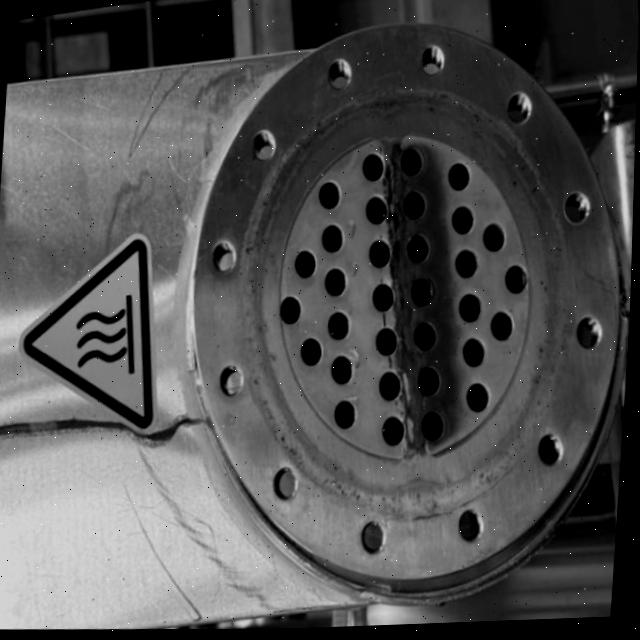Hole: (375, 409, 409, 449), (372, 363, 404, 403), (367, 321, 399, 359), (360, 232, 392, 270), (316, 261, 348, 299), (324, 348, 356, 386), (311, 218, 343, 256), (411, 360, 443, 398), (451, 287, 483, 325), (446, 243, 478, 281), (319, 305, 351, 343), (442, 199, 474, 237), (352, 146, 384, 184), (328, 394, 360, 432), (308, 174, 340, 212), (390, 141, 422, 179), (416, 406, 448, 444), (285, 243, 317, 281), (293, 331, 325, 369), (460, 377, 492, 415), (483, 305, 515, 343), (437, 155, 469, 193), (473, 217, 505, 255), (272, 289, 304, 327), (406, 316, 438, 353), (356, 190, 388, 227), (455, 332, 487, 369), (402, 272, 434, 308), (399, 229, 430, 265), (496, 259, 527, 295), (395, 185, 425, 221), (365, 279, 394, 313)
